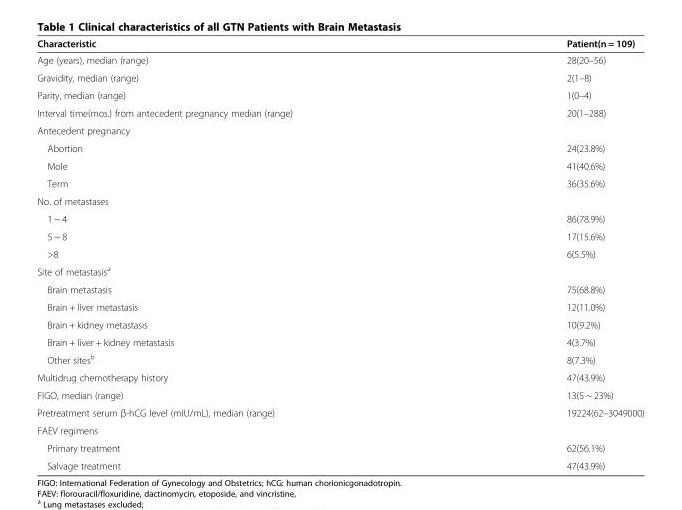table: (36, 37, 643, 471)
table column: (36, 37, 428, 471), (428, 37, 643, 471)
table column header: (36, 37, 643, 51)
table projected row header: (36, 261, 643, 280), (36, 121, 643, 139), (36, 192, 643, 209), (36, 421, 643, 438)
table row: (36, 261, 643, 280), (36, 68, 643, 86), (36, 103, 643, 121), (36, 121, 643, 139), (36, 156, 643, 174), (36, 174, 643, 192), (36, 209, 643, 227), (36, 297, 643, 315), (36, 315, 643, 333), (36, 350, 643, 368), (36, 368, 643, 386), (36, 403, 643, 421), (36, 438, 643, 456), (36, 51, 643, 68), (36, 86, 643, 103), (36, 139, 643, 156), (36, 192, 643, 209), (36, 227, 643, 244), (36, 244, 643, 261), (36, 280, 643, 297), (36, 333, 643, 350), (36, 386, 643, 403), (36, 421, 643, 438), (36, 456, 643, 471), (36, 37, 643, 51)
